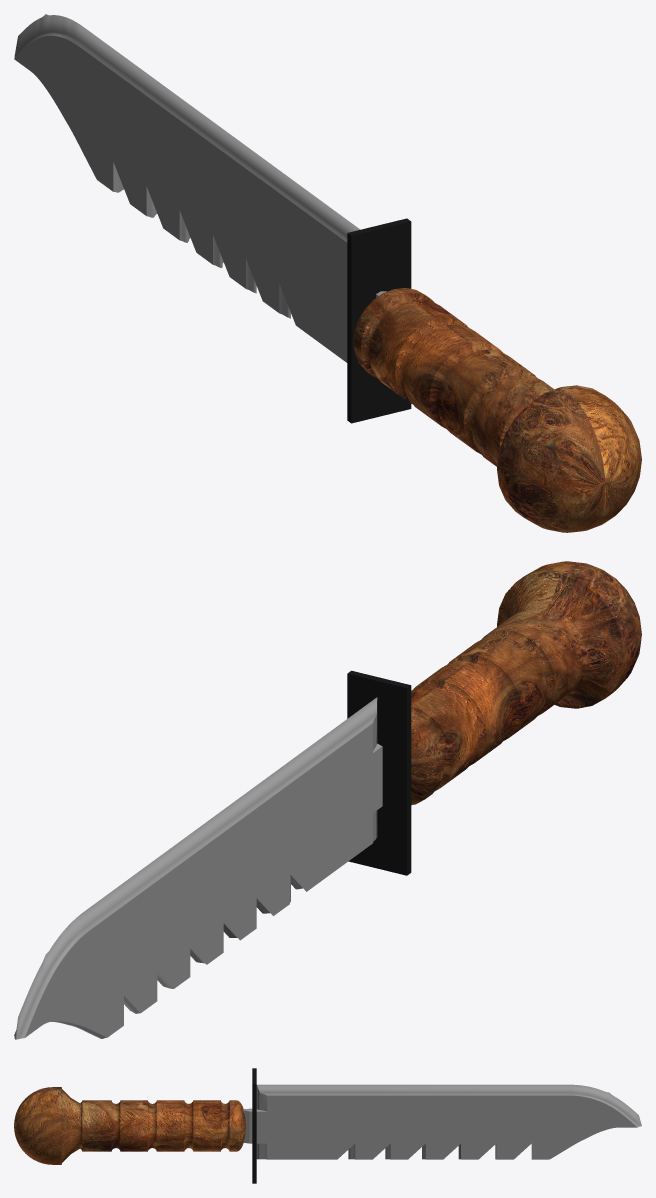
File: Knife.fbx
3 renders of one model, top to bottom at view 1: azimuth 30°, elevation 25°; view 2: azimuth 150°, elevation 25°; view 3: azimuth 270°, elevation 25°, orthographic. The views are drawn at different scales.
Parts seen in each view (by area): view 1: Klinge, Griff, Griffschutz; view 2: Klinge, Griff, Griffschutz; view 3: Klinge, Griff, Griffschutz.
Boxes of the visible parts, x1=… form: Klinge: x1=14, y1=14, x2=386, y2=362; Griff: x1=353, y1=288, x2=641, y2=532; Griffschutz: x1=347, y1=218, x2=411, y2=423; Klinge: x1=14, y1=697, x2=382, y2=1039; Griff: x1=411, y1=561, x2=641, y2=805; Griffschutz: x1=347, y1=670, x2=411, y2=875; Klinge: x1=243, y1=1084, x2=641, y2=1159; Griff: x1=14, y1=1087, x2=245, y2=1164; Griffschutz: x1=252, y1=1068, x2=256, y2=1183.
Size of the model in its own units: 42.56 by 60 by 342.
